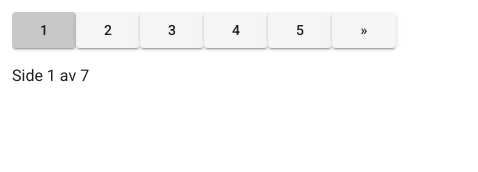
Test case: PaginationButtons › Jump left button should be visible after page change to right
Click the button with class "right". click: (364, 30)
box: x1=332 y1=12 x2=396 y2=48
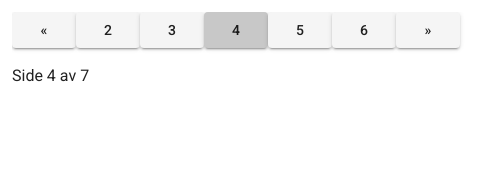
Expected: the button with class "left" is shown, x1=12 y1=12 x2=76 y2=48
